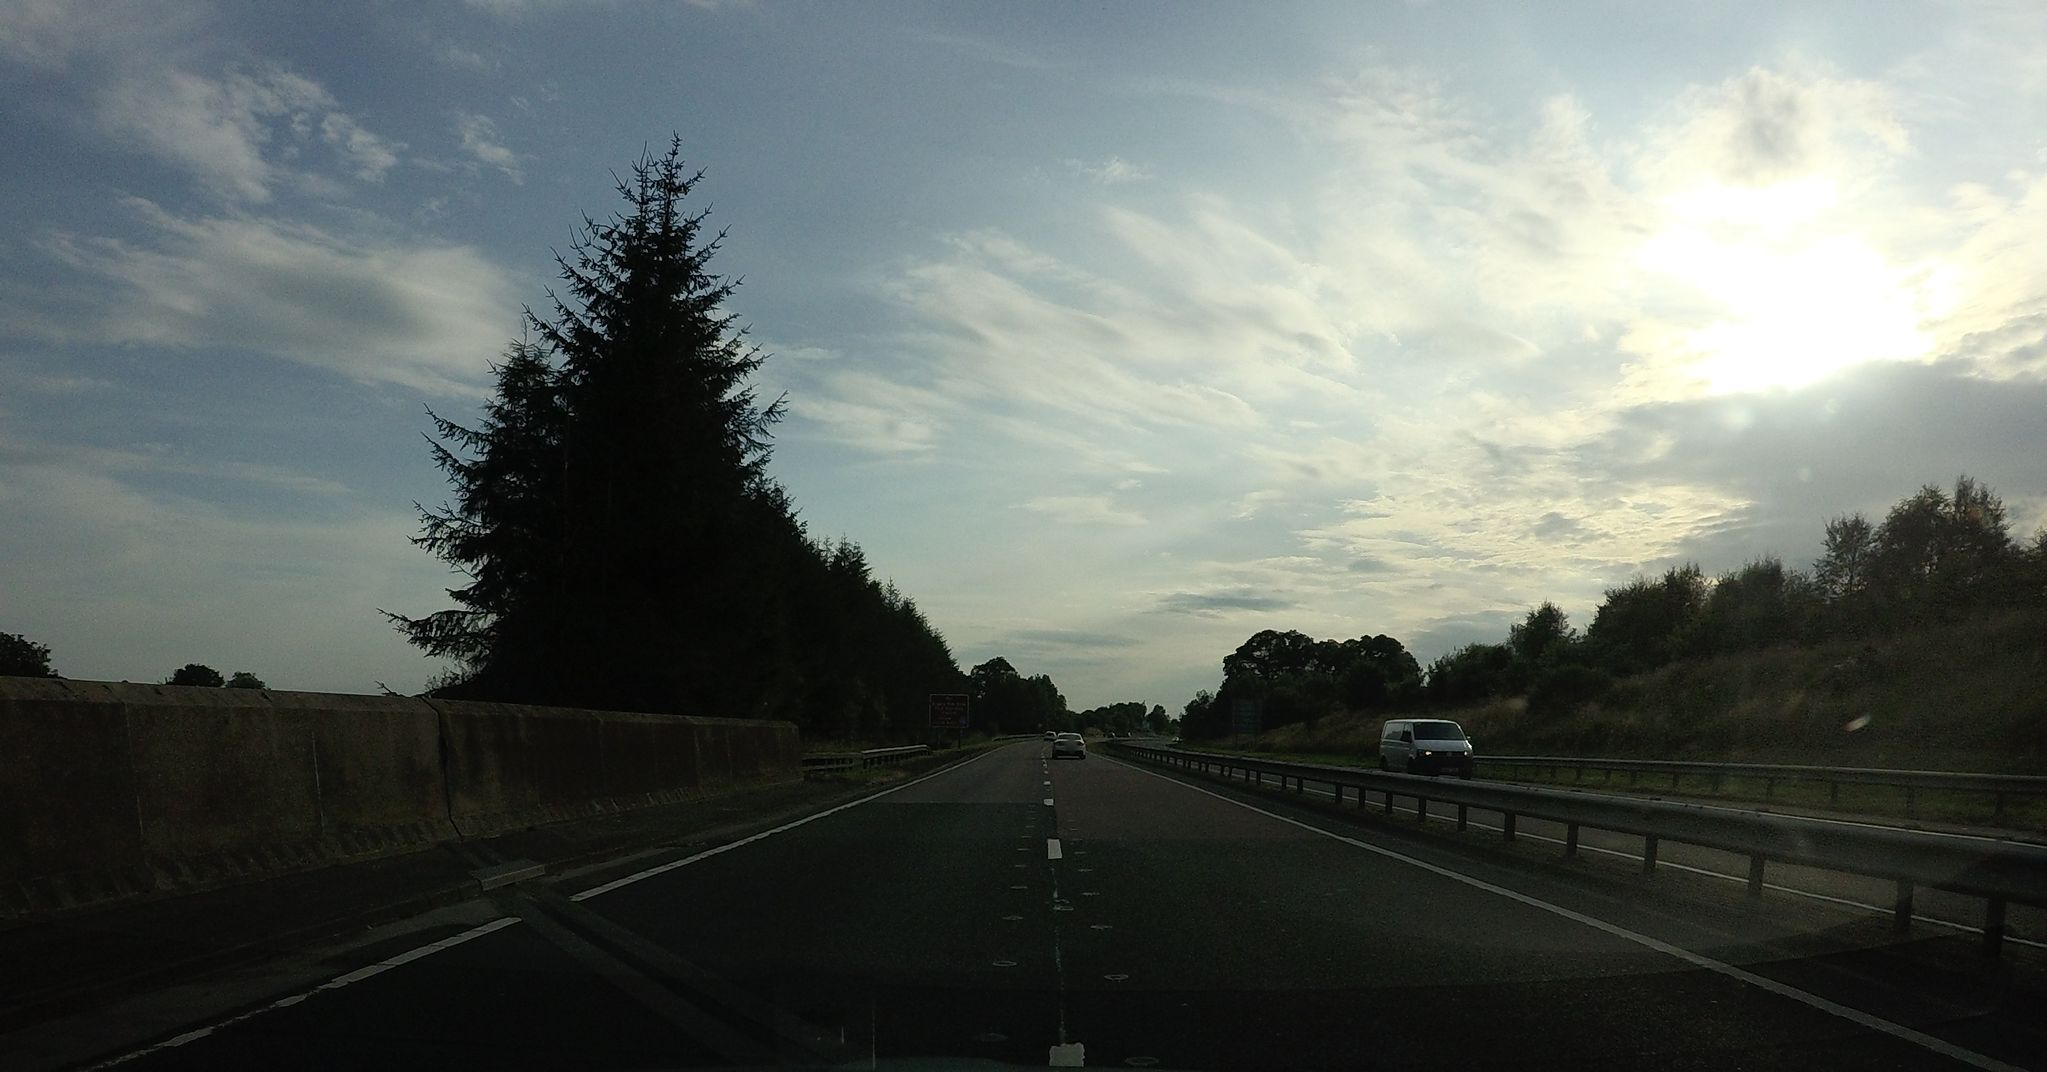car: (1378, 717, 1473, 782), (1051, 732, 1087, 759)
